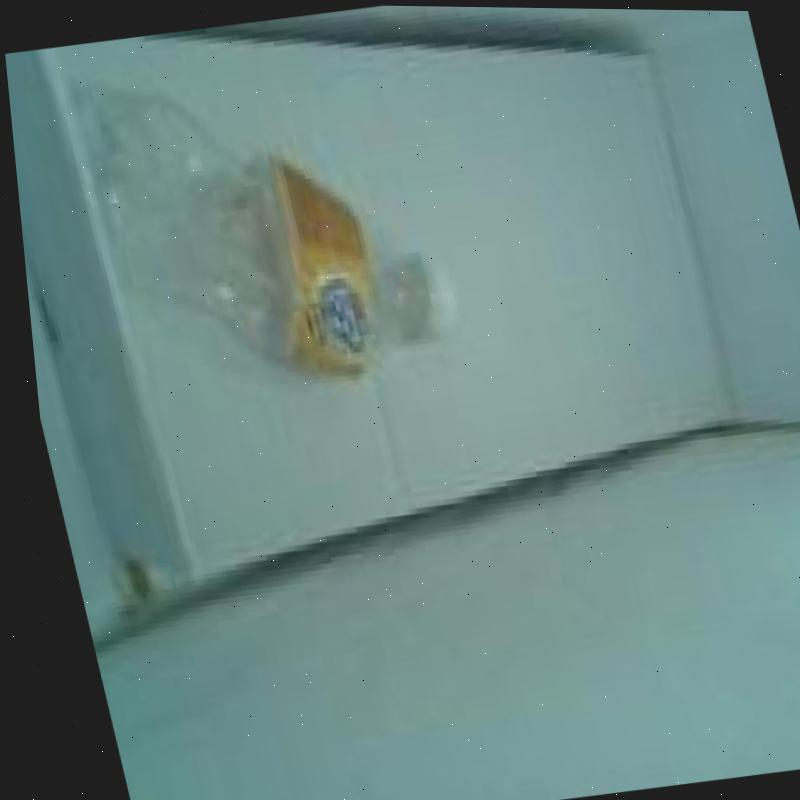botella: (61, 44, 469, 412)
